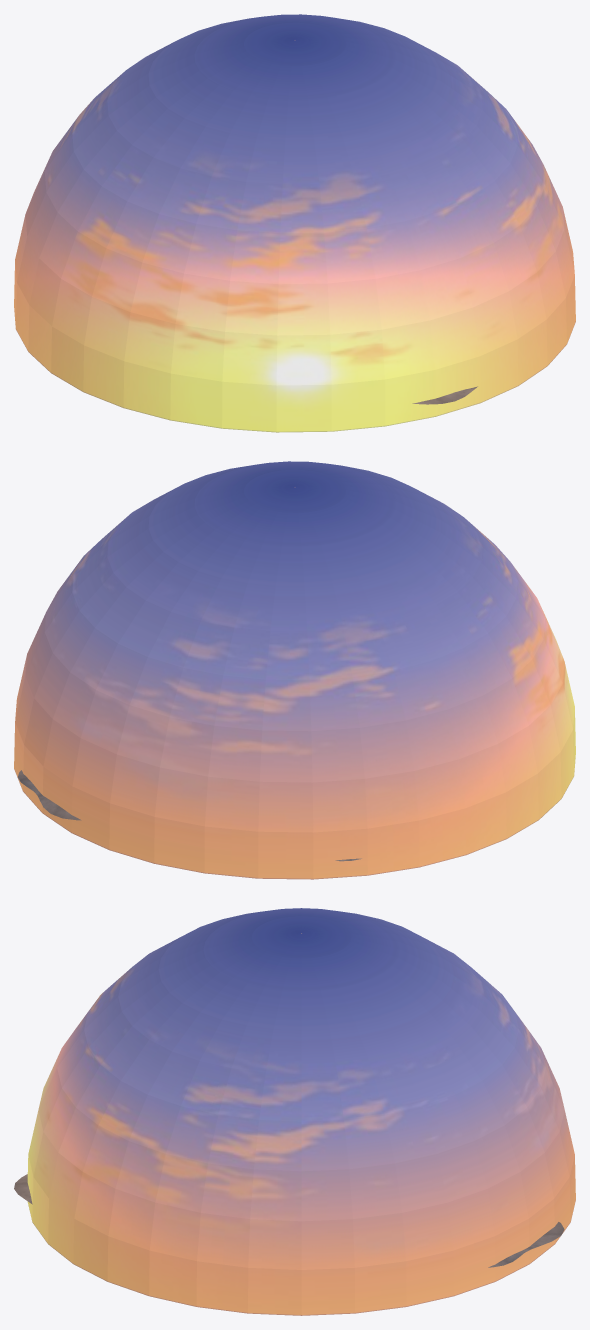
Rendered from lugar-lagos-ciudad.glb.
3 renders of one model, top to bottom at view 1: azimuth 30°, elevation 25°; view 2: azimuth 150°, elevation 25°; view 3: azimuth 270°, elevation 25°, orthographic. The views are drawn at different scales.
Visible parts, largest first — view 1: planoC; view 2: planoC, vertT; view 3: planoC, vertT.
Part boxes in pixels (left/top/right/bottom): planoC: left=14, top=14, right=575, bottom=432; planoC: left=14, top=461, right=575, bottom=879; vertT: left=18, top=770, right=361, bottom=861; planoC: left=27, top=908, right=575, bottom=1315; vertT: left=14, top=1174, right=564, bottom=1267.
Bounding box in the file's own units: 6584 × 3530 × 6742.
Materials: 19 (18 with a texture image).
